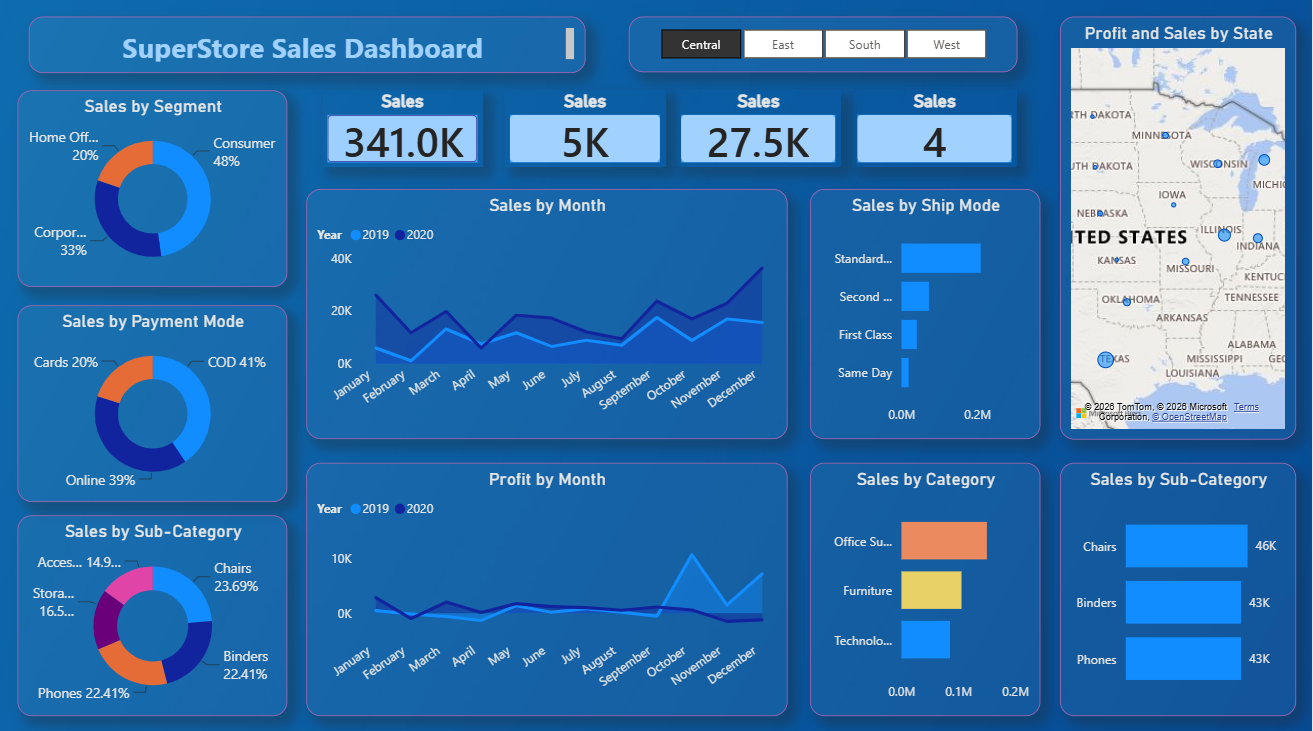

This screenshot's page, from the dashboard's own definition file:
{"tool":"powerbi","page":{"name":"Page 1","canvas":[1280,720],"ordinal":0},"visuals":[{"type":"clusteredBarChart","title":"Sales by Category","fields":{"Category":["SuperStore_Sales_Dataset.Category"],"Y":["Sum(SuperStore_Sales_Dataset.Sales)"]},"box":[790.4,452.8,225,247],"z":0},{"type":"clusteredBarChart","title":"Sales by Sub-Category","fields":{"Category":["SuperStore_Sales_Dataset.Sub-Category"],"Y":["Sum(SuperStore_Sales_Dataset.Sales)"]},"box":[1034.7,452.8,230.5,247],"z":1000},{"type":"clusteredBarChart","title":"Sales by Ship Mode","fields":{"Category":["SuperStore_Sales_Dataset.Ship Mode"],"Y":["Sum(SuperStore_Sales_Dataset.Sales)"]},"box":[790.4,185.2,225,244.3],"z":2000},{"type":"areaChart","title":"Sales by Month","fields":{"Y":["Sum(SuperStore_Sales_Dataset.Sales)"],"Category":["SuperStore_Sales_Dataset.Order Date.Variation.Date Hierarchy.Month","SuperStore_Sales_Dataset.Order Date.Variation.Date Hierarchy.Day"],"Series":["SuperStore_Sales_Dataset.Order Date.Variation.Date Hierarchy.Year"]},"box":[299.1,185.2,469.3,244.3],"z":3000},{"type":"areaChart","title":"Profit by Month","fields":{"Category":["SuperStore_Sales_Dataset.Order Date.Variation.Date Hierarchy.Month","SuperStore_Sales_Dataset.Order Date.Variation.Date Hierarchy.Day"],"Series":["SuperStore_Sales_Dataset.Order Date.Variation.Date Hierarchy.Year"],"Y":["Sum(SuperStore_Sales_Dataset.Profit)"]},"box":[299.1,452.8,469.3,247],"z":4000},{"type":"map","title":"Profit and Sales by State","fields":{"Category":["SuperStore_Sales_Dataset.State"],"Size":["Sum(SuperStore_Sales_Dataset.Sales)"]},"box":[1034.7,16.5,230.5,413],"z":5000},{"type":"donutChart","title":"Sales by Segment","fields":{"Category":["SuperStore_Sales_Dataset.Segment"],"Y":["Sum(SuperStore_Sales_Dataset.Sales)"]},"box":[16.5,89.2,263.5,192.1],"z":6000},{"type":"donutChart","title":"Sales by Payment Mode","fields":{"Category":["SuperStore_Sales_Dataset.Payment Mode"],"Y":["Sum(SuperStore_Sales_Dataset.Sales)"]},"box":[16.5,299.1,263.5,192.1],"z":7000},{"type":"slicer","fields":{"Values":["SuperStore_Sales_Dataset.Region"]},"box":[612.9,16.9,378.8,54.3],"z":8000},{"type":"cardVisual","title":"Sales","fields":{"Data":["Sum(SuperStore_Sales_Dataset.Sales)"]},"box":[314.2,89.2,156.4,75.5],"z":9000},{"type":"cardVisual","title":"Sales","fields":{"Data":["Sum(SuperStore_Sales_Dataset.Quantity)"]},"box":[492.6,89.2,156.4,75.5],"z":10000},{"type":"cardVisual","title":"Sales","fields":{"Data":["Sum(SuperStore_Sales_Dataset.Profit)"]},"box":[660,89.2,160.5,75.5],"z":11000},{"type":"cardVisual","title":"Sales","fields":{"Data":["Avg(SuperStore_Sales_Dataset.AvgDelivery)"]},"box":[831.6,89.2,160.5,75.5],"z":12000},{"type":"donutChart","title":"Sales by Sub-Category","fields":{"Y":["Sum(SuperStore_Sales_Dataset.Sales)"],"Category":["SuperStore_Sales_Dataset.Sub-Category"]},"box":[16.5,503.6,263.5,196.2],"z":13000},{"type":"textbox","box":[27.4,16.5,543.4,54.9],"z":14000}]}

Visuals, with their boxes in screenshot pixels (x1, y1, x2, y2), scaled from the page's 1280x720 canvas onto the 1313x731 screenshot:
"Sales by Category" clusteredBarChart: [811, 460, 1042, 710]
"Sales by Sub-Category" clusteredBarChart: [1061, 460, 1298, 710]
"Sales by Ship Mode" clusteredBarChart: [811, 188, 1042, 436]
"Sales by Month" areaChart: [307, 188, 788, 436]
"Profit by Month" areaChart: [307, 460, 788, 710]
"Profit and Sales by State" map: [1061, 17, 1298, 436]
"Sales by Segment" donutChart: [17, 91, 287, 286]
"Sales by Payment Mode" donutChart: [17, 304, 287, 499]
slicer - SuperStore_Sales_Dataset.Region: [629, 17, 1017, 72]
"Sales" cardVisual: [322, 91, 483, 167]
"Sales" cardVisual: [505, 91, 666, 167]
"Sales" cardVisual: [677, 91, 842, 167]
"Sales" cardVisual: [853, 91, 1018, 167]
"Sales by Sub-Category" donutChart: [17, 511, 287, 710]
textbox: [28, 17, 586, 72]
